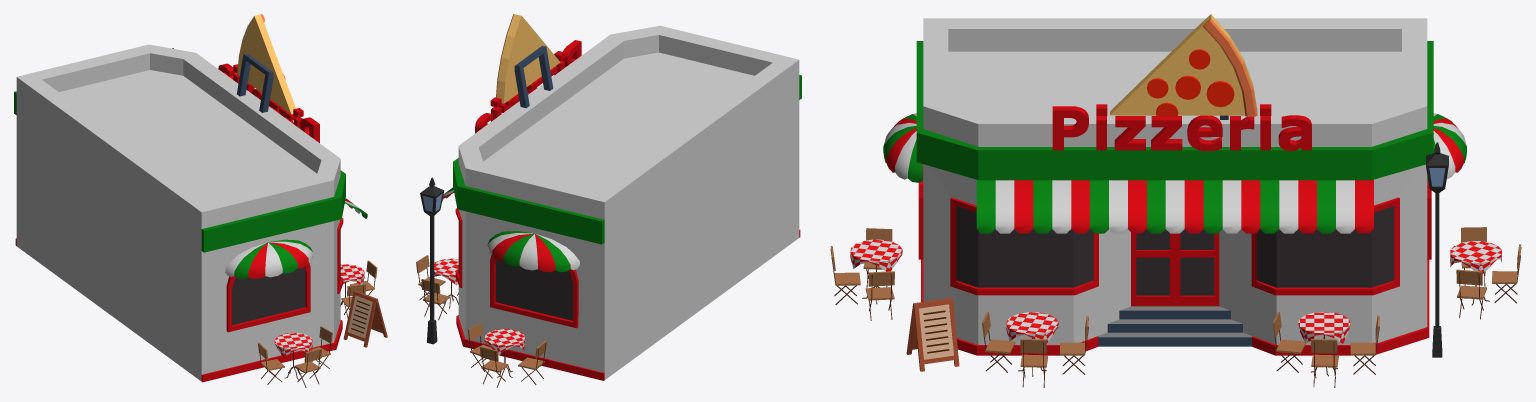
Rendered from restaurant.fbx.
The picture shows the model from 3 angles, left to right: view 1: azimuth 30°, elevation 25°; view 2: azimuth 150°, elevation 25°; view 3: azimuth 270°, elevation 25°; orthographic projection. The views are drawn at different scales.
Parts seen in each view (by area): view 1: PizzaBuilding, PizzaTables, PizzaBoard; view 2: PizzaBuilding, PizzaTables, PizzaLight; view 3: PizzaBuilding, PizzaTables, PizzaBoard, PizzaLight.
Boxes of the visible parts, bbox=[...] form: PizzaBuilding: bbox=[14, 14, 367, 382]; PizzaTables: bbox=[258, 260, 377, 387]; PizzaBoard: bbox=[343, 290, 387, 347]; PizzaBuilding: bbox=[442, 14, 801, 380]; PizzaTables: bbox=[416, 255, 546, 387]; PizzaLight: bbox=[420, 177, 444, 344]; PizzaBuilding: bbox=[883, 14, 1466, 355]; PizzaTables: bbox=[830, 227, 1521, 387]; PizzaBoard: bbox=[906, 298, 959, 371]; PizzaLight: bbox=[1426, 142, 1448, 357].
Size of the model in its own units: 291 by 327 by 603.
